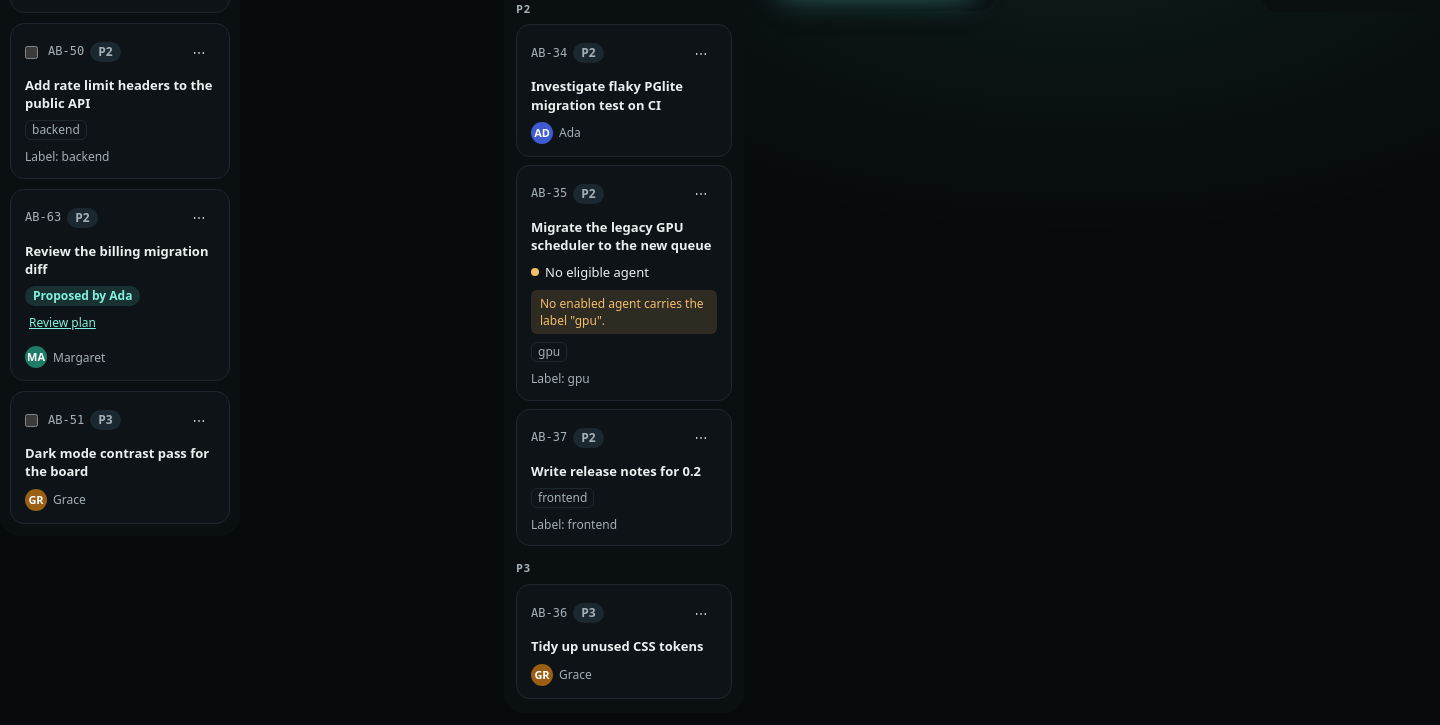
it: Backlog column › deletes a draft after confirmation
(page scrolled)
Click the button named "Actions for AB-51".
click(199, 420)  # box [183, 404, 215, 436]
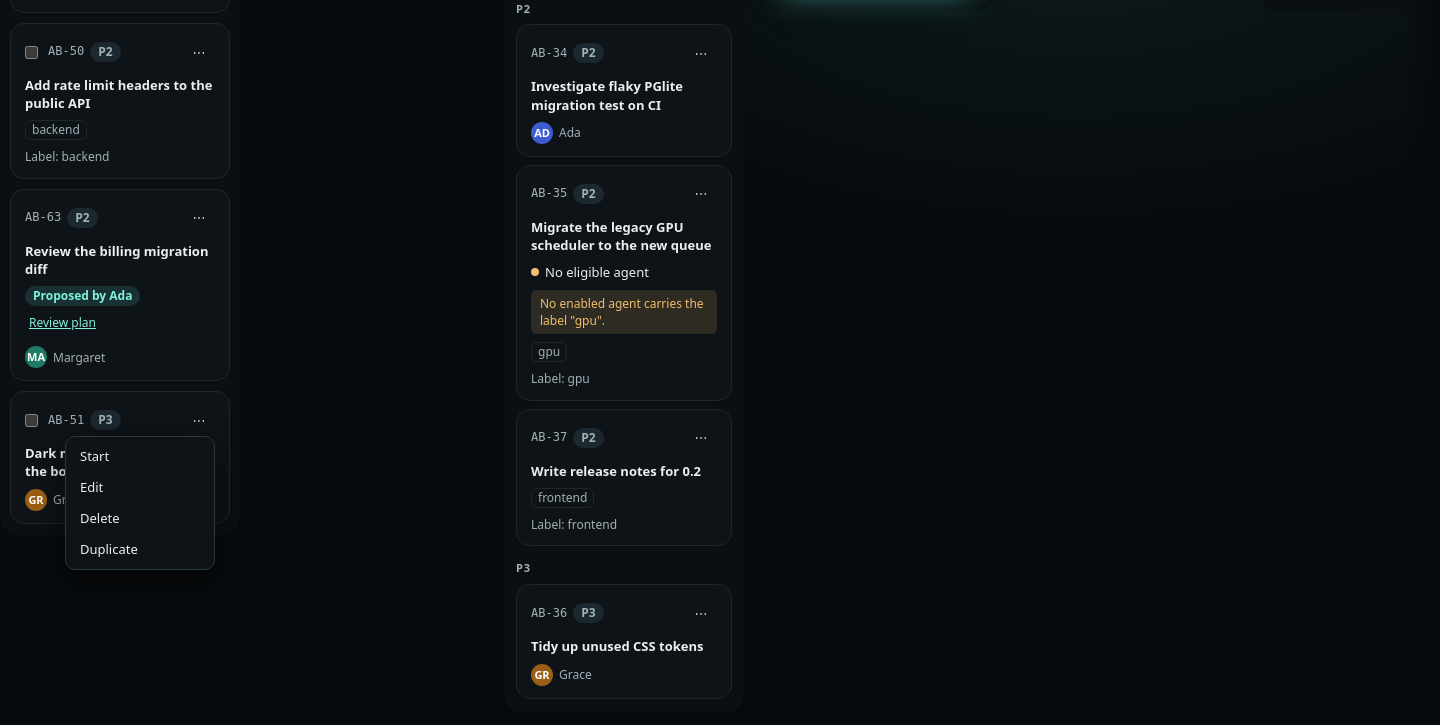
Click the menu item "Delete".
click(140, 518)  # box [70, 503, 210, 534]
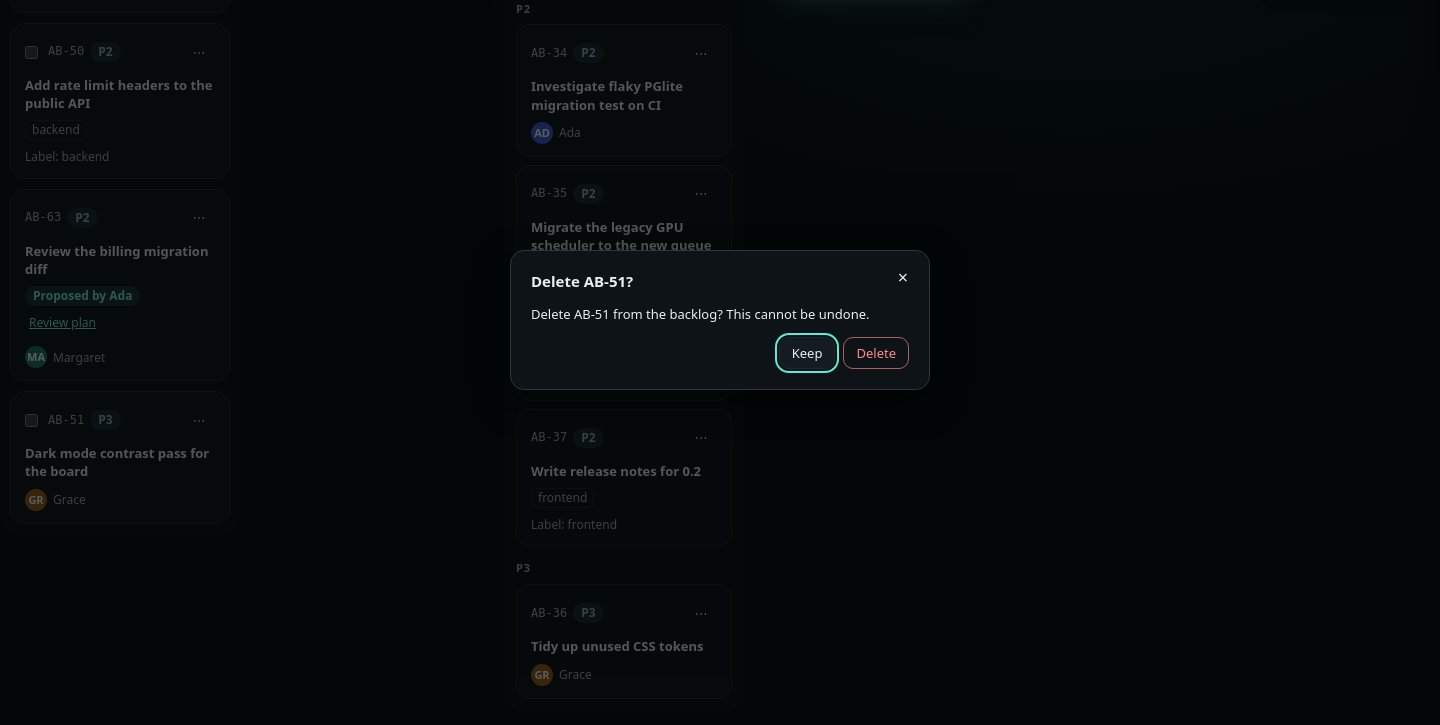
Click the button "Delete".
click(876, 353)  # box [844, 337, 909, 369]
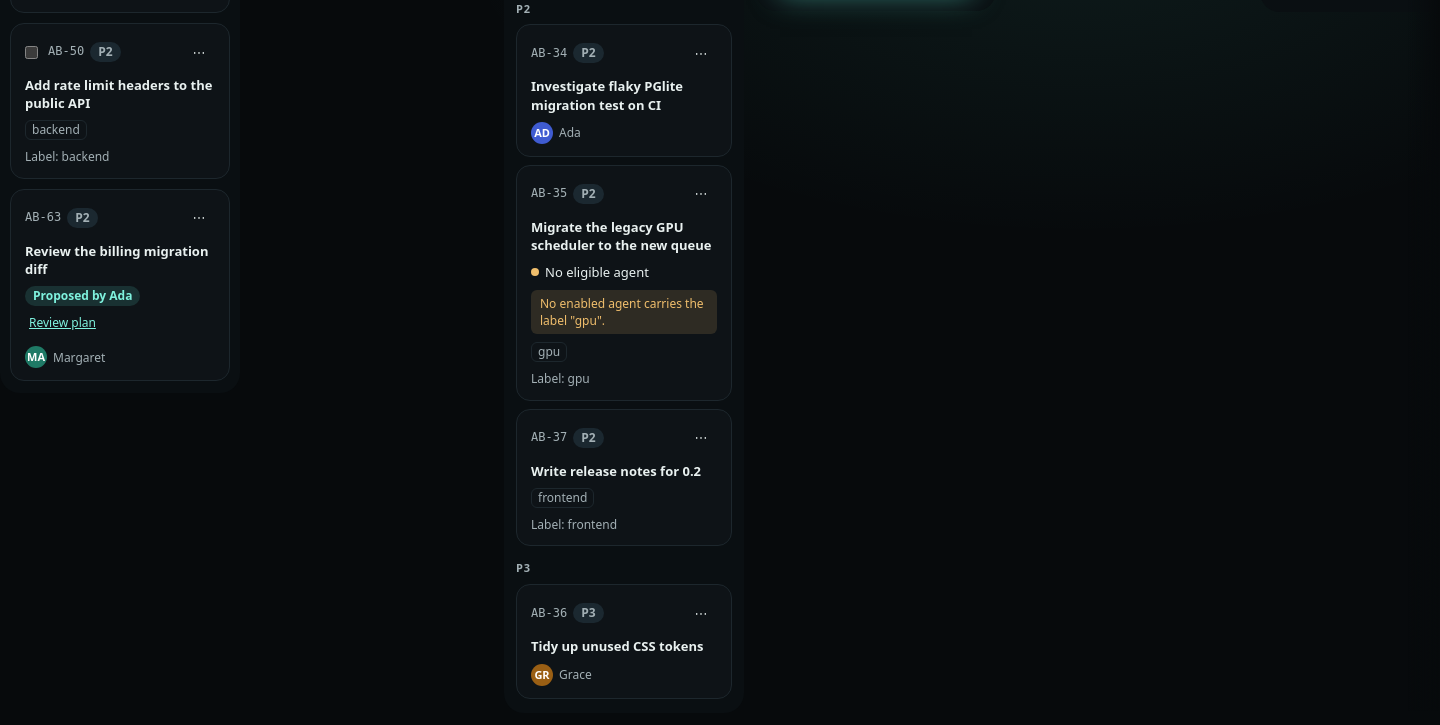
Result: the text "AB-51 " is gone
